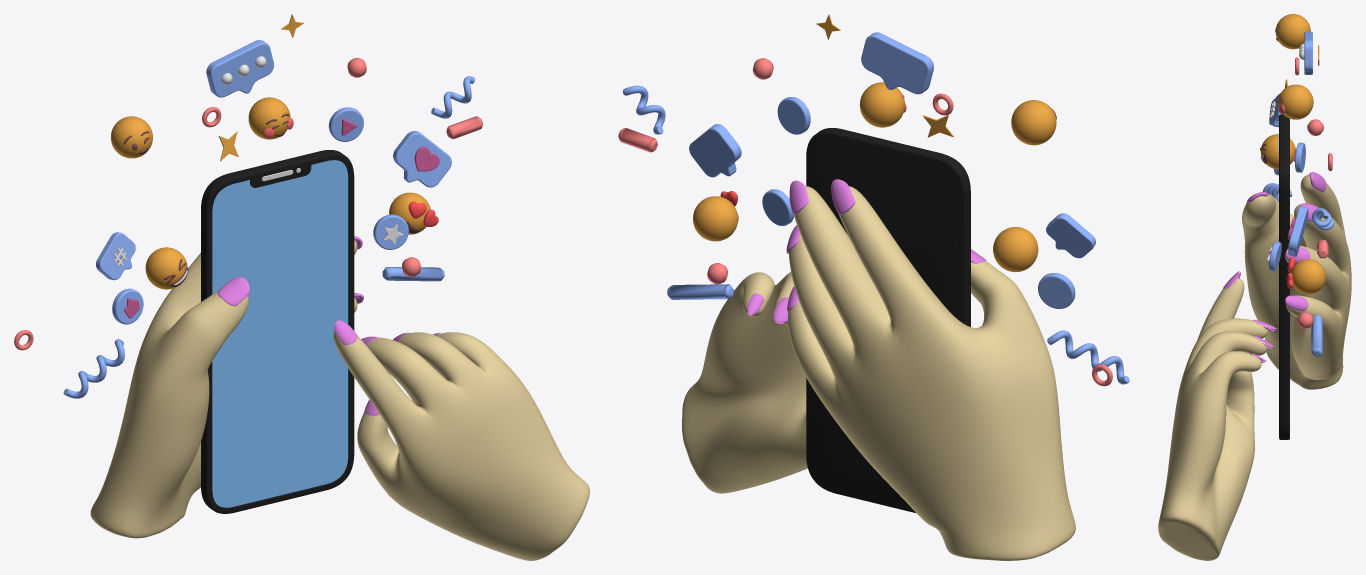
Rendered from hands.glb.
The picture shows the model from 3 angles, left to right: view 1: azimuth 30°, elevation 25°; view 2: azimuth 150°, elevation 25°; view 3: azimuth 270°, elevation 25°; orthographic projection. The views are drawn at different scales.
Parts seen in each view (by area): view 1: screen, hand, hand.001, Boolean 2, Rectangle, Rectangle 6.001, Sphere.004, Sphere.005, Sphere.003, Rectangle 6, Helix 2, Ellipse.001 (+4 smaller); view 2: hand.001, Boolean 2, hand, Rectangle, Rectangle 6.001, Sphere.004, Sphere.005, Sphere.001, Sphere.003, Rectangle 6, Ellipse, Helix 2 (+5 smaller); view 3: hand, hand.001, Boolean 2, Sphere.001, Sphere.003, Sphere.004, Rectangle 6.001, Sphere.005, Cylinder, Rectangle, Helix, Ellipse.001 (+2 smaller).
Part boxes in pixels (<box>): screen: <box>212,160,348,507</box>; hand: <box>333,320,589,560</box>; hand.001: <box>90,240,357,538</box>; Boolean 2: <box>201,150,354,513</box>; Rectangle: <box>206,40,273,97</box>; Rectangle 6.001: <box>393,131,451,187</box>; Sphere.004: <box>111,116,152,158</box>; Sphere.005: <box>145,247,187,289</box>; Sphere.003: <box>248,97,290,139</box>; Rectangle 6: <box>96,232,135,280</box>; Helix 2: <box>63,339,124,398</box>; Ellipse.001: <box>373,214,408,249</box>; hand.001: <box>788,186,1075,560</box>; Boolean 2: <box>806,128,970,512</box>; hand: <box>682,272,807,493</box>; Rectangle: <box>861,32,933,94</box>; Rectangle 6.001: <box>689,124,741,177</box>; Sphere.004: <box>1011,100,1056,145</box>; Sphere.005: <box>993,227,1038,272</box>; Sphere.001: <box>693,196,738,241</box>; Sphere.003: <box>859,82,904,127</box>; Rectangle 6: <box>1046,213,1095,258</box>; Ellipse: <box>1038,273,1075,308</box>; Helix 2: <box>1047,330,1129,384</box>; hand: <box>1158,271,1276,560</box>; hand.001: <box>1242,174,1351,389</box>; Boolean 2: <box>1279,114,1289,439</box>; Sphere.001: <box>1291,259,1325,294</box>; Sphere.003: <box>1278,84,1313,119</box>; Sphere.004: <box>1275,14,1310,49</box>; Rectangle 6.001: <box>1288,206,1308,256</box>; Sphere.005: <box>1260,134,1295,169</box>; Cylinder: <box>1311,315,1322,356</box>; Rectangle: <box>1304,31,1312,74</box>; Helix: <box>1312,208,1334,230</box>; Ellipse.001: <box>1268,241,1281,271</box>.
Size of the model in its own units: 9.03 by 9.55 by 3.74.
